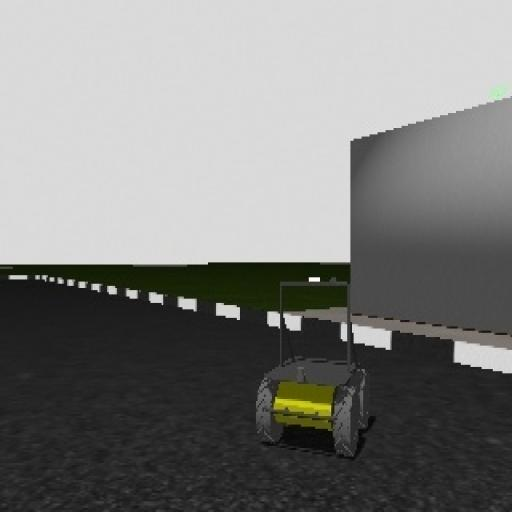huskya200: (263, 260, 376, 480)
